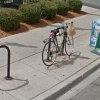Bicycle: (35, 15, 78, 71)
